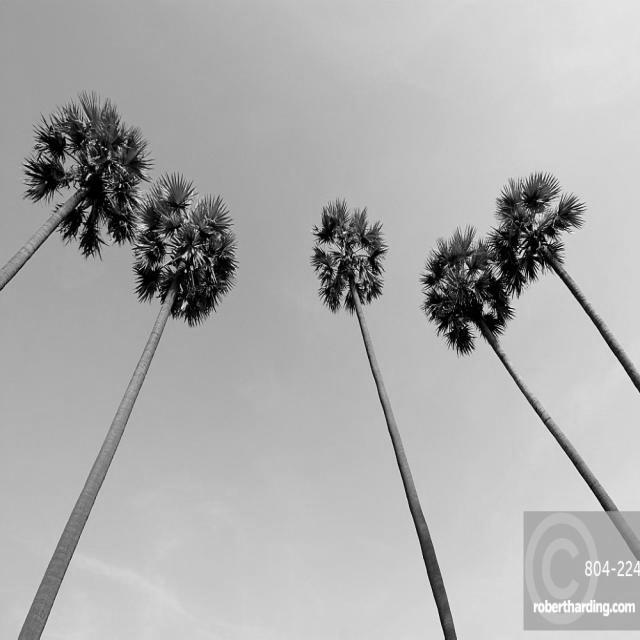Plam-Tree: (58, 63, 235, 640), (145, 168, 246, 366)
